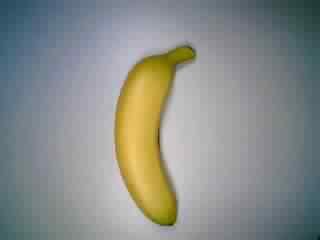banana: (109, 37, 203, 226)
